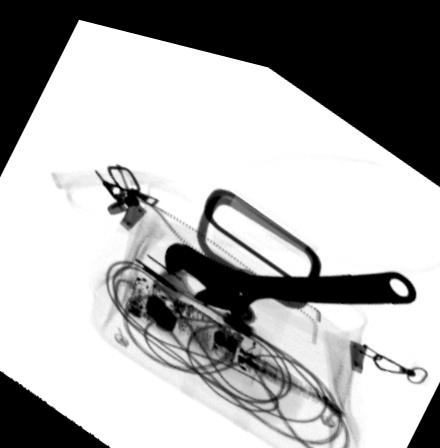Wrench: (162, 230, 421, 305)
